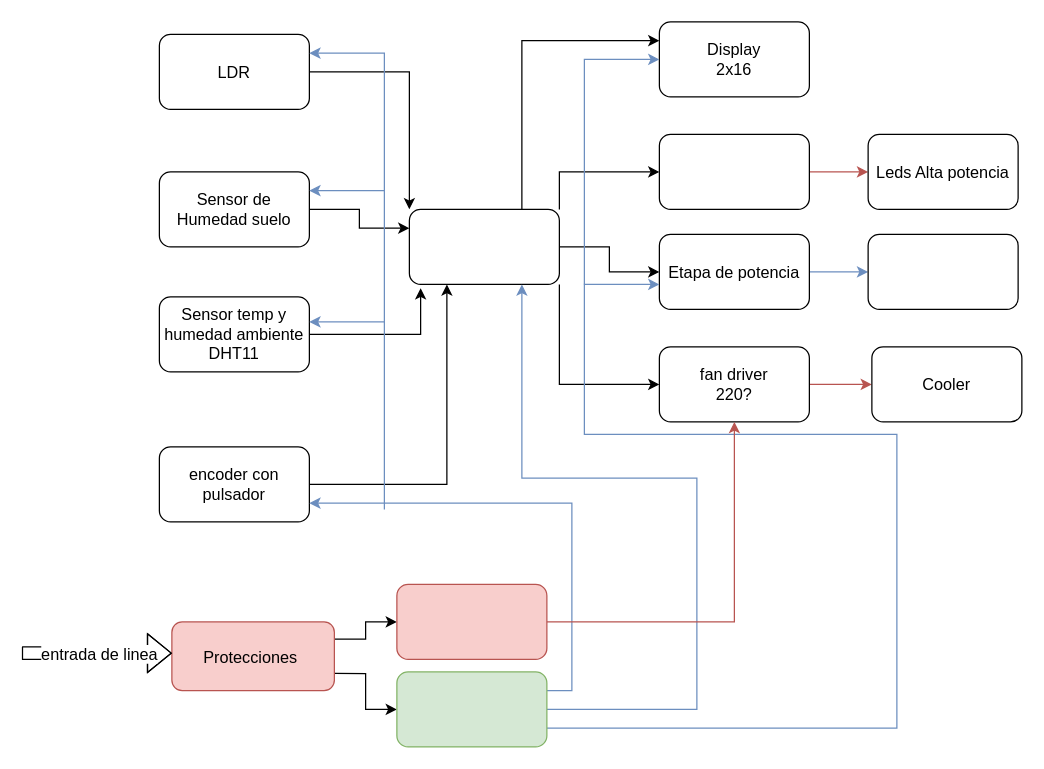
Some shapes in this 1044 by 769 pixel diagram are drawn without their labels. Each missing label, with the centre of its shape:
328p o Arduino UNO: [483,246]
alimentación 220v ac: [471,621]
Bomba de Agua: [942,271]
Etapa de potencia 220?: [733,171]
switching 5v dc: [471,709]
